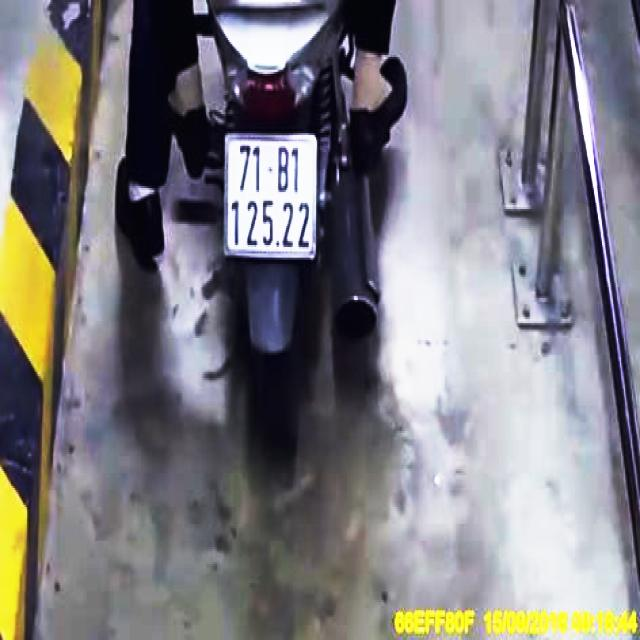license_plate: (226, 134, 317, 257)
